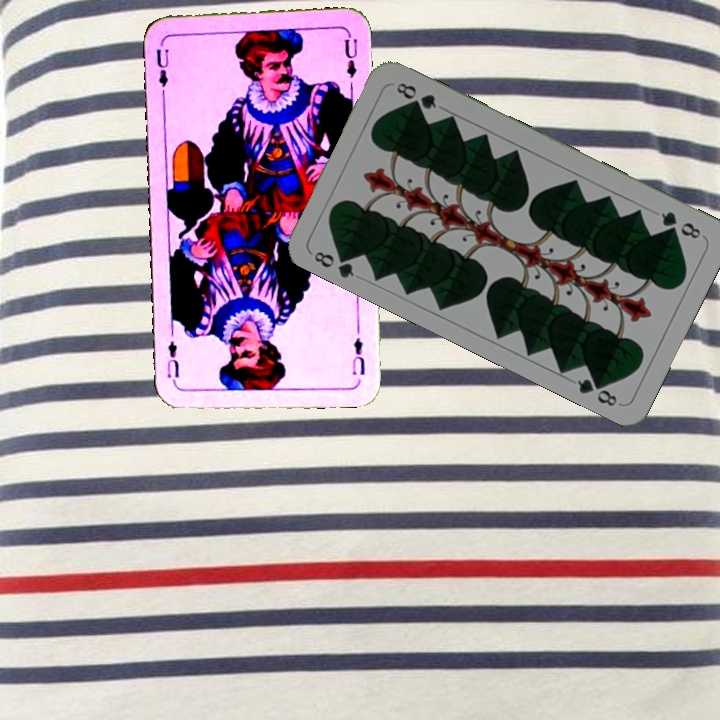EU: (152, 38, 172, 90), (348, 333, 368, 378)
G8: (309, 245, 357, 281), (656, 207, 704, 242)
